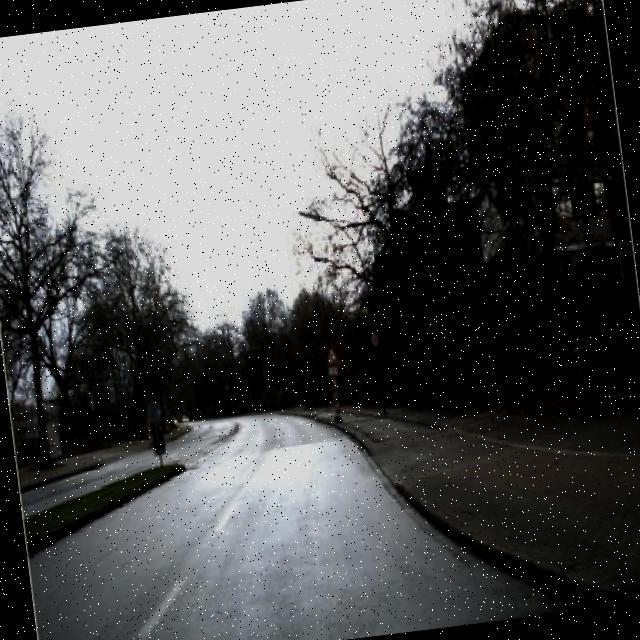Ograniczenie predkosci do 50: (366, 327, 384, 352)
